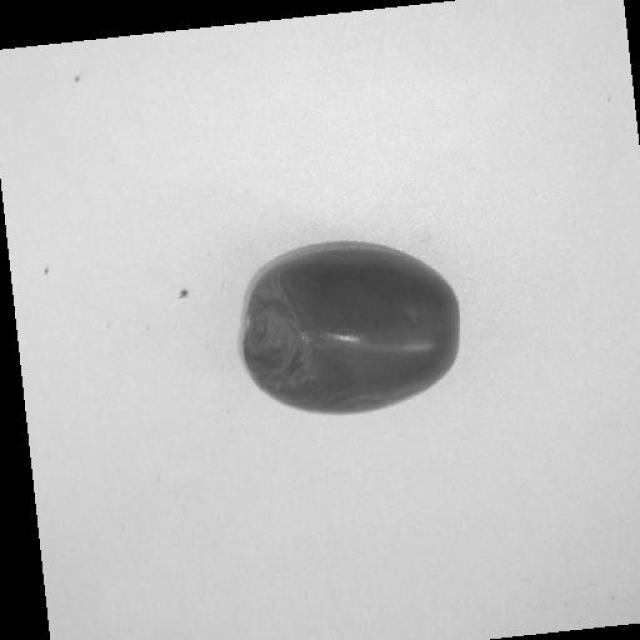Stale_tomato: (196, 231, 487, 425)
